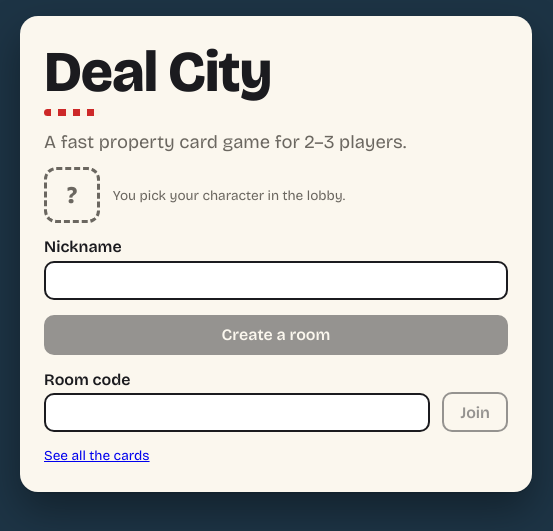
Test case: Home › needs a nickname before creating or joining
Check: the button "Create a room" is disabled, box [44, 315, 508, 355]
Step 1. Type "abcdef" into the field labelled "Room code" → (237, 413), box [44, 393, 430, 432]
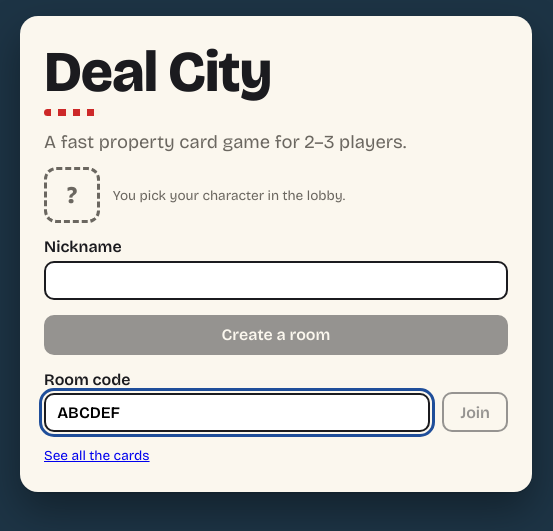
Check: the button "Join" is disabled, box [442, 392, 508, 432]
Step 2. Type "Ann" into the field labelled "Nickname" → (276, 281), box [44, 261, 508, 300]
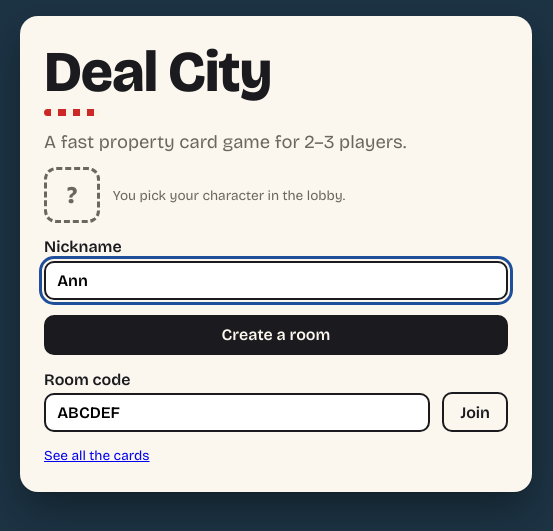
Check: the button "Create a room" is enabled, box [44, 315, 508, 355]
Check: the button "Join" is enabled, box [442, 392, 508, 432]
